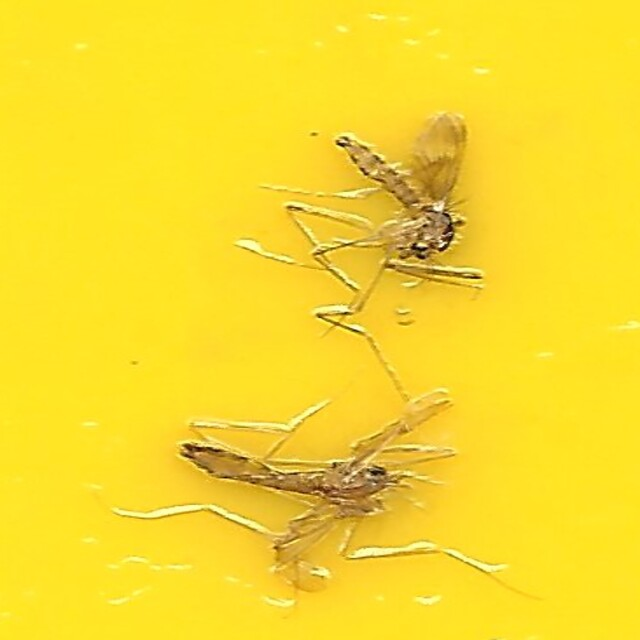Nematocera: (329, 126, 465, 268), (175, 436, 400, 514)
